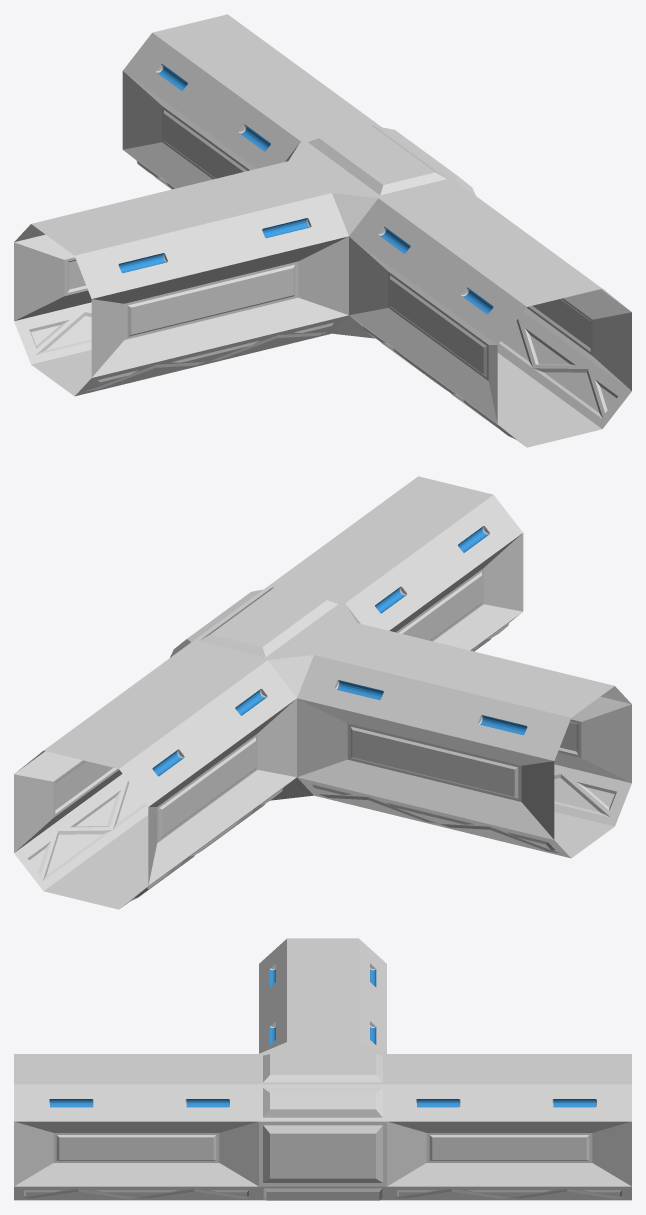
Rendered from CorridorTJunction.fbx.
The picture shows the model from 3 angles, top to bottom: view 1: azimuth 30°, elevation 25°; view 2: azimuth 150°, elevation 25°; view 3: azimuth 270°, elevation 25°; orthographic projection. The views are drawn at different scales.
Parts seen in each view (by area): view 1: Cube.001; view 2: Cube.001; view 3: Cube.001.
Part boxes in pixels (bbox=[...]): Cube.001: bbox=[14, 14, 631, 447]; Cube.001: bbox=[14, 476, 631, 909]; Cube.001: bbox=[14, 938, 631, 1200].
Size of the model in its own units: 1772 by 623 by 2898.
